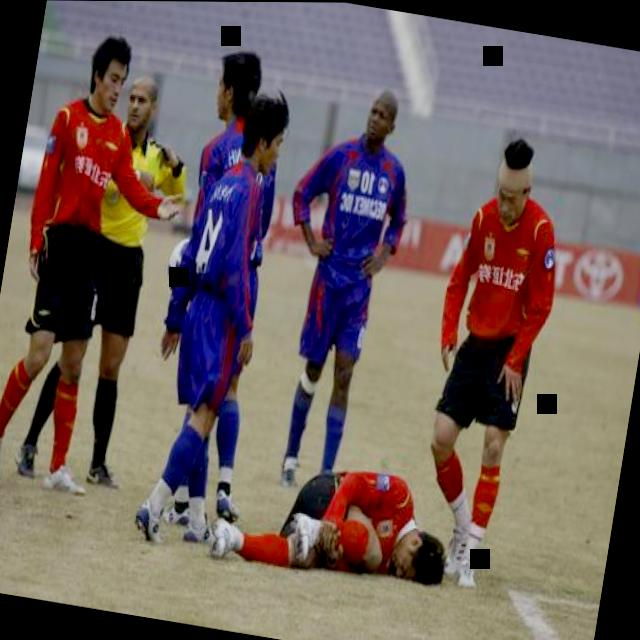Fall-Detected: (203, 432, 464, 605)
